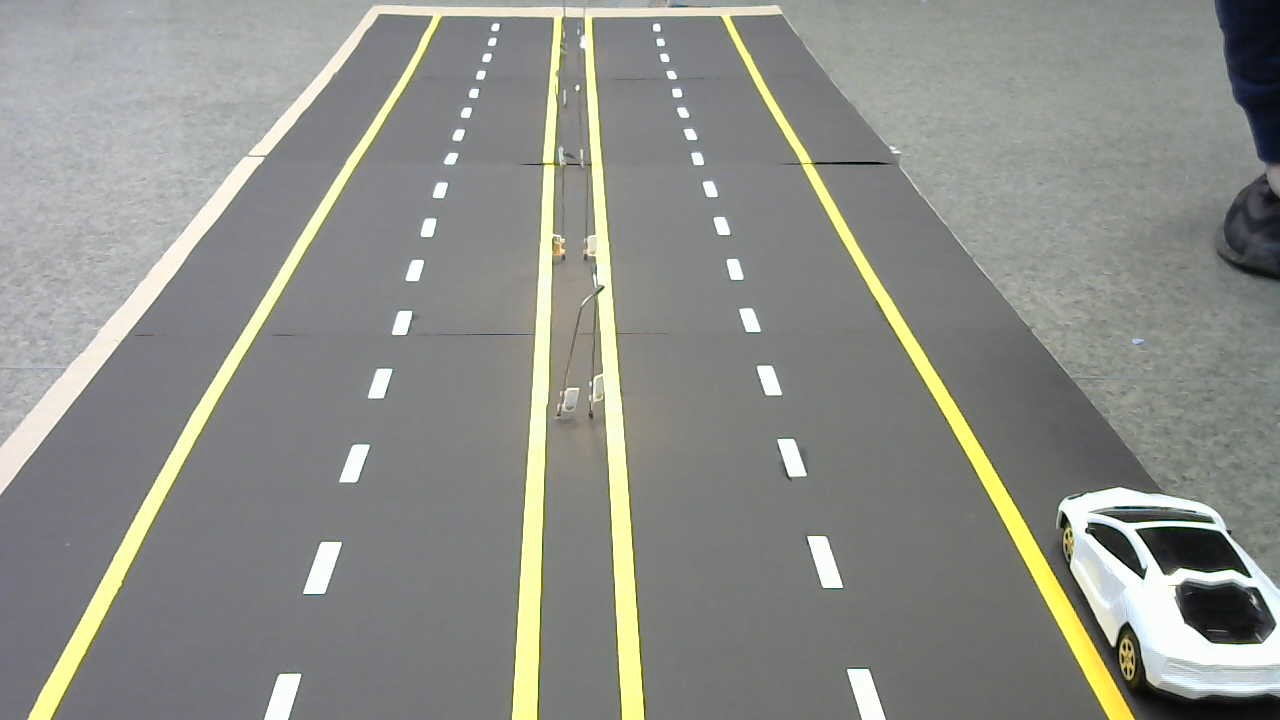back_car: (1044, 477, 1280, 703)
